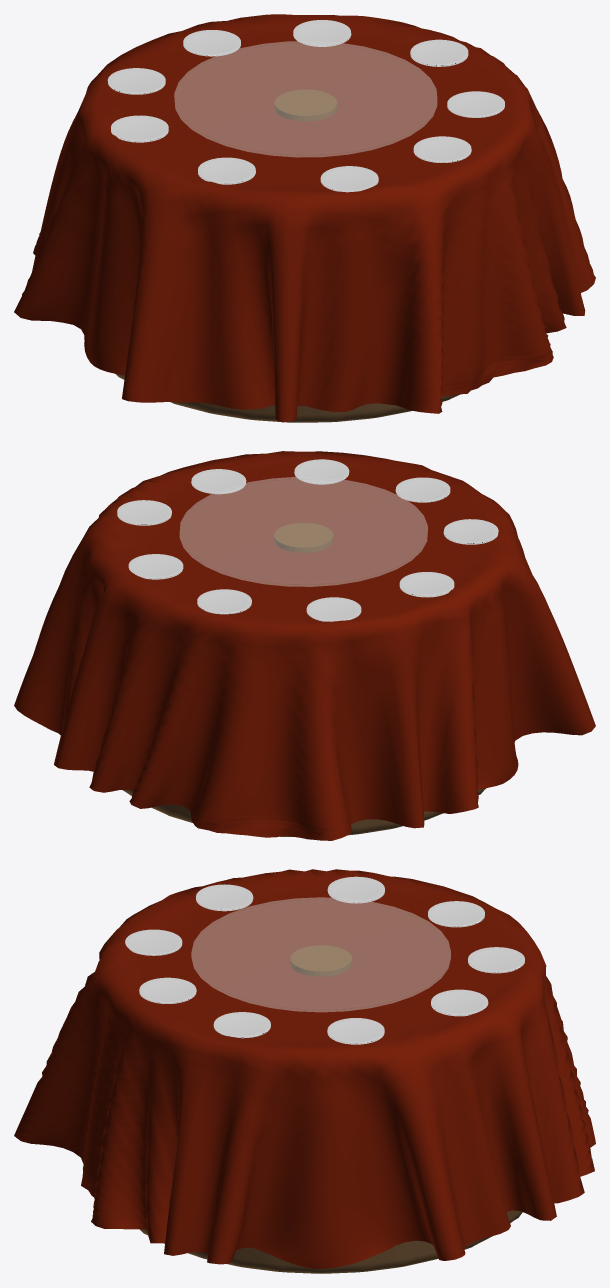
File: dimsumtable.glb
3 renders of one model, top to bottom at view 1: azimuth 30°, elevation 25°; view 2: azimuth 150°, elevation 25°; view 3: azimuth 270°, elevation 25°, orthographic. The views are drawn at different scales.
Parts seen in each view (by area): view 1: Circle, Cylinder.001, Cylinder, Cylinder.002, Cylinder.008, Cylinder.010, Cylinder.005, Cylinder.009, Cylinder.003, Cylinder.011, Cylinder.004, Cylinder.007 (+1 smaller); view 2: Circle, Cylinder.001, Cylinder.002, Cylinder, Cylinder.005, Cylinder.008, Cylinder.010, Cylinder.009, Cylinder.006, Cylinder.003, Cylinder.004, Cylinder.007 (+1 smaller); view 3: Circle, Cylinder.001, Cylinder, Cylinder.002, Cylinder.005, Cylinder.008, Cylinder.010, Cylinder.009, Cylinder.003, Cylinder.011, Cylinder.006, Cylinder.007 (+1 smaller).
Boxes of the visible parts, x1,y1,x2,y2 form: Circle: (14,14,595,422); Cylinder.001: (174,41,436,157); Cylinder: (116,374,460,422); Cylinder.002: (274,89,337,121); Cylinder.008: (410,39,468,66); Cylinder.010: (111,115,168,142); Cylinder.005: (198,157,255,184); Cylinder.009: (293,20,351,46); Cylinder.003: (413,136,471,162); Cylinder.011: (107,68,165,94); Cylinder.004: (447,91,504,117); Cylinder.007: (183,30,240,56); Circle: (14,451,595,840); Cylinder.001: (180,477,427,586); Cylinder.002: (274,522,333,552); Cylinder: (122,788,486,836); Cylinder.005: (443,519,498,544); Cylinder.008: (117,500,171,525); Cylinder.010: (399,572,454,597); Cylinder.009: (128,554,183,579); Cylinder.006: (395,477,450,502); Cylinder.003: (294,459,349,484); Cylinder.004: (191,469,246,494); Cylinder.007: (197,589,251,614); Circle: (14,869,595,1268); Cylinder.001: (191,897,450,1011); Cylinder: (139,1210,522,1273); Cylinder.002: (290,945,352,976); Cylinder.005: (196,884,253,911); Cylinder.008: (327,1018,384,1044); Cylinder.010: (327,876,384,903); Cylinder.009: (431,989,488,1016); Cylinder.003: (139,977,196,1003); Cylinder.011: (428,901,484,927); Cylinder.006: (125,929,182,955); Cylinder.007: (468,947,524,973).
Bounding box in the file's own units: 5.74 × 2.7 × 6.07.
